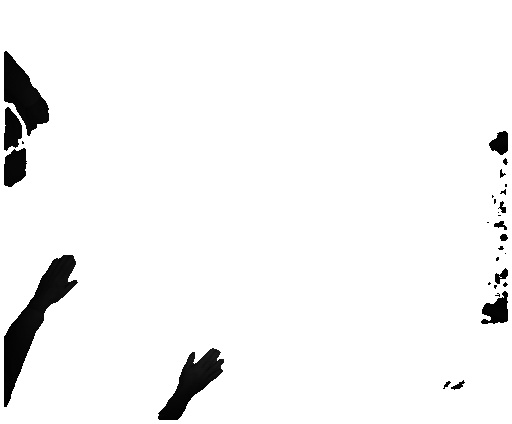hand: (35, 248, 79, 312), (180, 344, 223, 398)
